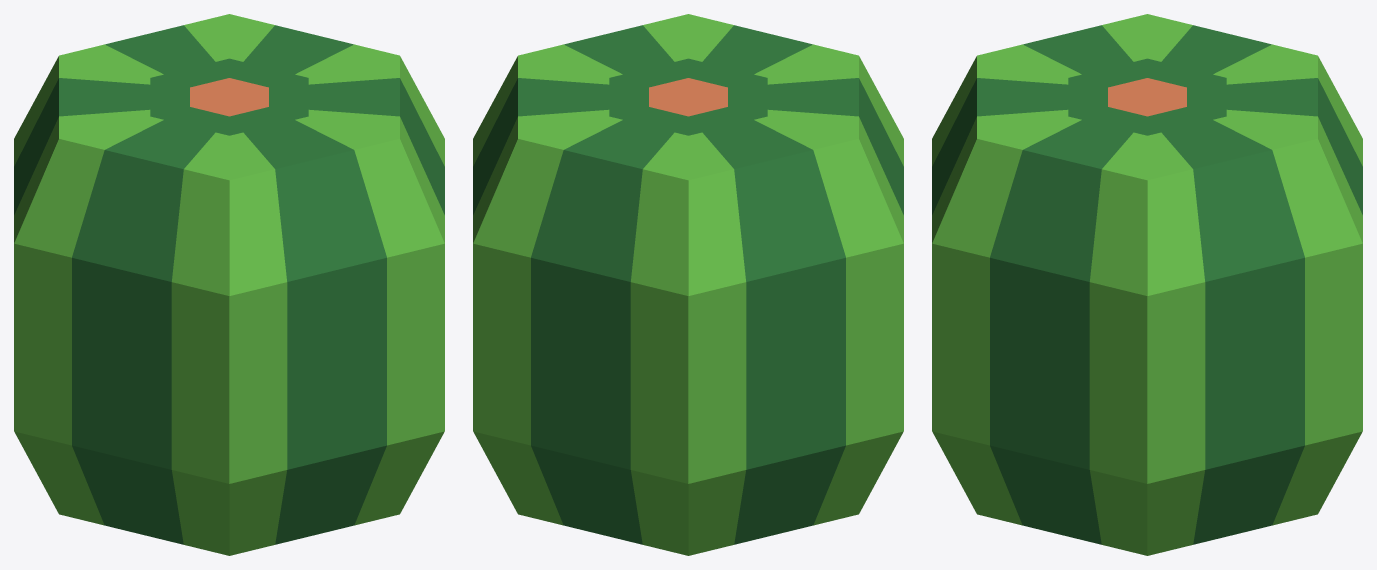
The model's file is crop_melon.glb.
3 views of the same model, side by side, from view 1: azimuth 30°, elevation 25°; view 2: azimuth 150°, elevation 25°; view 3: azimuth 270°, elevation 25° (orthographic).
Visible parts, largest first — view 1: crop_melon; view 2: crop_melon; view 3: crop_melon.
Boxes of the visible parts, x1,y1,x2,y2 form: crop_melon: (14,14,444,555); crop_melon: (473,14,903,555); crop_melon: (932,14,1362,555).
Size of the model in its own units: 0.4176 by 0.348 by 0.3617.
